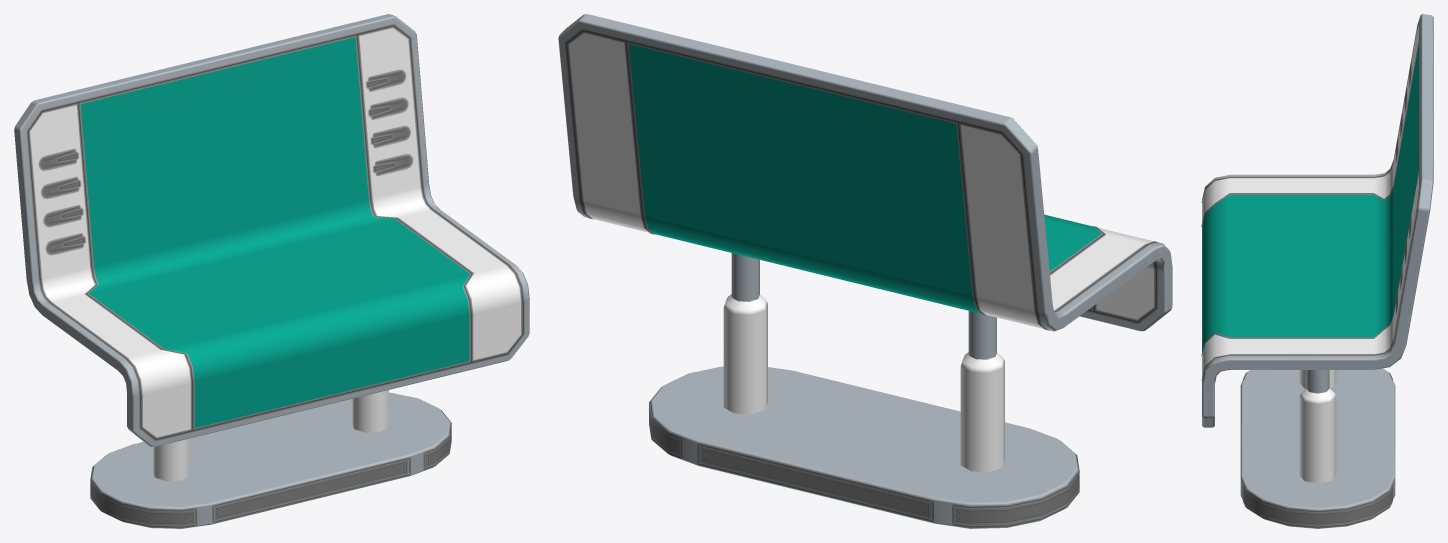
File: lab-stool.glb
3 renders of one model, left to right at view 1: azimuth 30°, elevation 25°; view 2: azimuth 150°, elevation 25°; view 3: azimuth 270°, elevation 25°, orthographic. The views are drawn at different scales.
Parts seen in each view (by area): view 1: Chair003_Color3_0, Chair003_Color1_0, Chair003_Color2_0, Chair003_d_Decals_0; view 2: Chair003_Color3_0, Chair003_Color1_0, Chair003_Color2_0, Chair003_d_Decals_0; view 3: Chair003_Color3_0, Chair003_Color1_0, Chair003_Color2_0, Chair003_d_Decals_0.
Boxes of the visible parts, x1,y1,x2,y2 form: Chair003_Color3_0: (80, 37, 470, 428); Chair003_Color1_0: (14, 14, 529, 528); Chair003_Color2_0: (30, 28, 521, 481); Chair003_d_Decals_0: (26, 23, 524, 527); Chair003_Color3_0: (628, 44, 1101, 313); Chair003_Color1_0: (558, 14, 1172, 528); Chair003_Color2_0: (568, 33, 1153, 472); Chair003_d_Decals_0: (564, 28, 1158, 527); Chair003_Color3_0: (1202, 43, 1418, 354); Chair003_Color1_0: (1202, 14, 1433, 528); Chair003_Color2_0: (1202, 25, 1419, 483); Chair003_d_Decals_0: (1201, 21, 1419, 527).
Bounding box in the file's own units: 1.25 × 1.12 × 0.6626.
4 materials, 1 textured.
